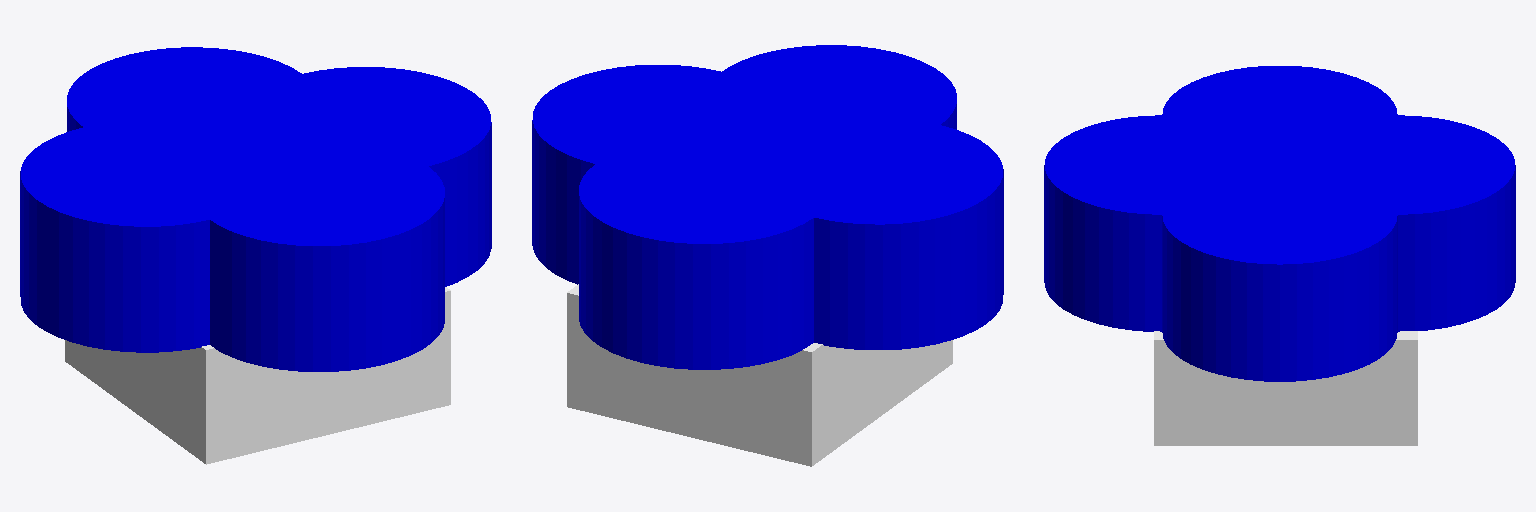
The robot description file, URDF, robot "clover.urdf":
<?xml version="1.0" ?>
<robot name="clover.urdf">

  <link name="base">
    <contact>
    	<friction_anchor/>
    	<lateral_friction value="1.0"/>
    </contact>
    <inertial>
      <origin rpy="0 0 0" xyz="0 0 0"/>
       <mass value=".1"/>
       <inertia ixx="1" ixy="0" ixz="0" iyy="1" iyz="0" izz="1"/>
    </inertial>
    <visual>
      <origin rpy="0 0 0" xyz="0 0 0"/>
      <geometry>
				<box size="0.056 0.056 0.025"/>
      </geometry>
       <material name="white">
        <color rgba="1.0 1.0 1.0 1"/>
      </material>
    </visual>
    <collision>
      <origin rpy="0 0 0" xyz="0 0 0"/>
      <geometry>
        <box size="0.056 0.056 0.025"/>
      </geometry>
    </collision>
  </link>

  <link name="clover">
    <contact>
    	<friction_anchor/>
    	<lateral_friction value="1.0"/>
    </contact>
    <inertial>
      <origin rpy="0 0 0" xyz="0 0 0"/>
       <mass value=".1"/>
       <inertia ixx="1" ixy="0" ixz="0" iyy="1" iyz="0" izz="1"/>
    </inertial>
    <visual>
      <origin rpy="0 0 0" xyz="0 0 0"/>
      <geometry>
				<mesh filename="clover.obj" scale="1.0 1.0 1.0"/>
      </geometry>
       <material name="blue">
        <color rgba="0 0 1 1.0"/>
      </material>
    </visual>
    <collision>
      <origin rpy="0 0 0" xyz="0 0 0"/>
      <geometry>
				<mesh filename="clover.obj" scale="1.0 1.0 1.0"/>
      </geometry>
    </collision>
  </link>

  <joint name="base_joint" type="fixed">
     <origin xyz="0 0 0.0125" rpy="0 0 0"/>
     <axis xyz="0 0 1"/>
     <parent link="base"/>
     <child link="clover"/>
  </joint>

</robot>

--- Facts derived from the render (not from the file) ---
3 views of the same robot in one strip: view 1: azimuth 30°, elevation 25°; view 2: azimuth 150°, elevation 25°; view 3: azimuth 270°, elevation 25° (orthographic).
Robot: clover.urdf — 2 links, 1 joints (1 fixed); root link base; default pose: all joints at 0.
Links seen in each view (by area): view 1: clover, base; view 2: clover, base; view 3: clover, base.
Boxes of the visible links, x1,y1,x2,y2 form: clover: (20, 47, 491, 371); base: (65, 287, 450, 464); clover: (532, 45, 1003, 369); base: (567, 284, 952, 466); clover: (1044, 66, 1515, 381); base: (1154, 331, 1417, 445).
Bounding box of the posed robot: 0.1 × 0.1 × 0.0523 m (x, y, z).
Meshes: 1 distinct files referenced, 1 mesh visuals loaded (1 OBJ).